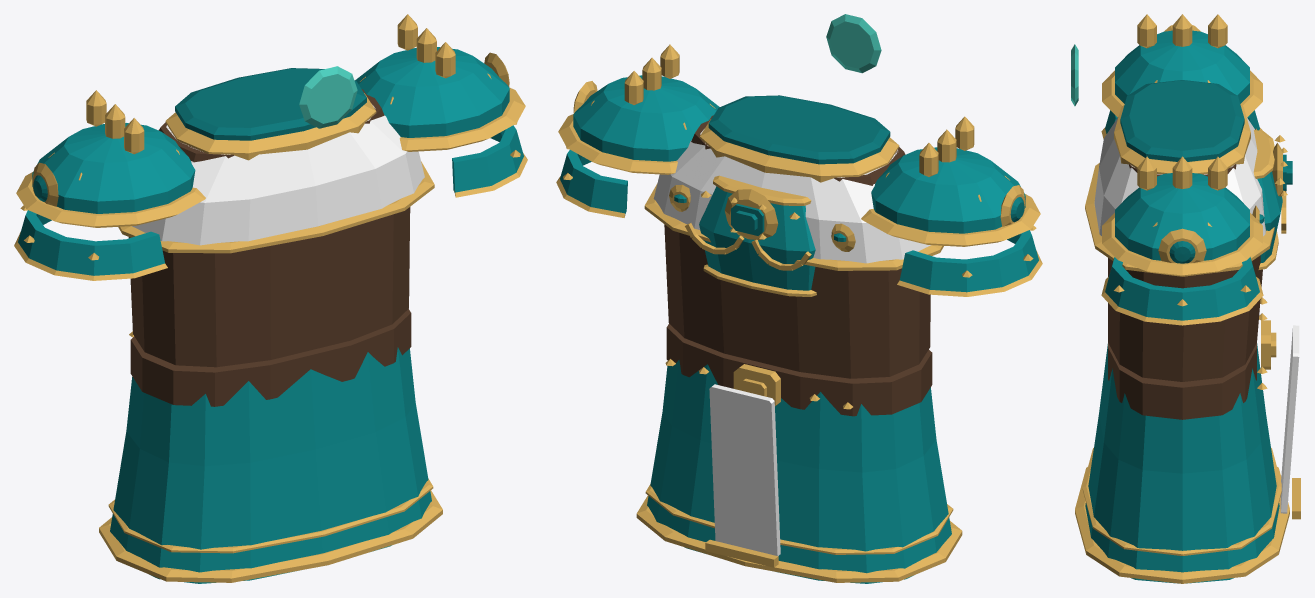
The model's file is look3_armor_healer_ancient.fbx.
3 renders of one model, left to right at view 1: azimuth 30°, elevation 25°; view 2: azimuth 150°, elevation 25°; view 3: azimuth 270°, elevation 25°, orthographic. The views are drawn at different scales.
Visible parts, largest first — view 1: Main, Tasset; view 2: Main, Tasset; view 3: Main, Tasset.
Part boxes in pixels (bbox=[...]): Main: bbox=[14, 14, 527, 406]; Tasset: bbox=[99, 347, 442, 583]; Main: bbox=[556, 14, 1042, 416]; Tasset: bbox=[636, 360, 962, 583]; Main: bbox=[1071, 14, 1292, 419]; Tasset: bbox=[1075, 325, 1300, 583].
Size of the model in its own units: 420 by 409 by 182.
